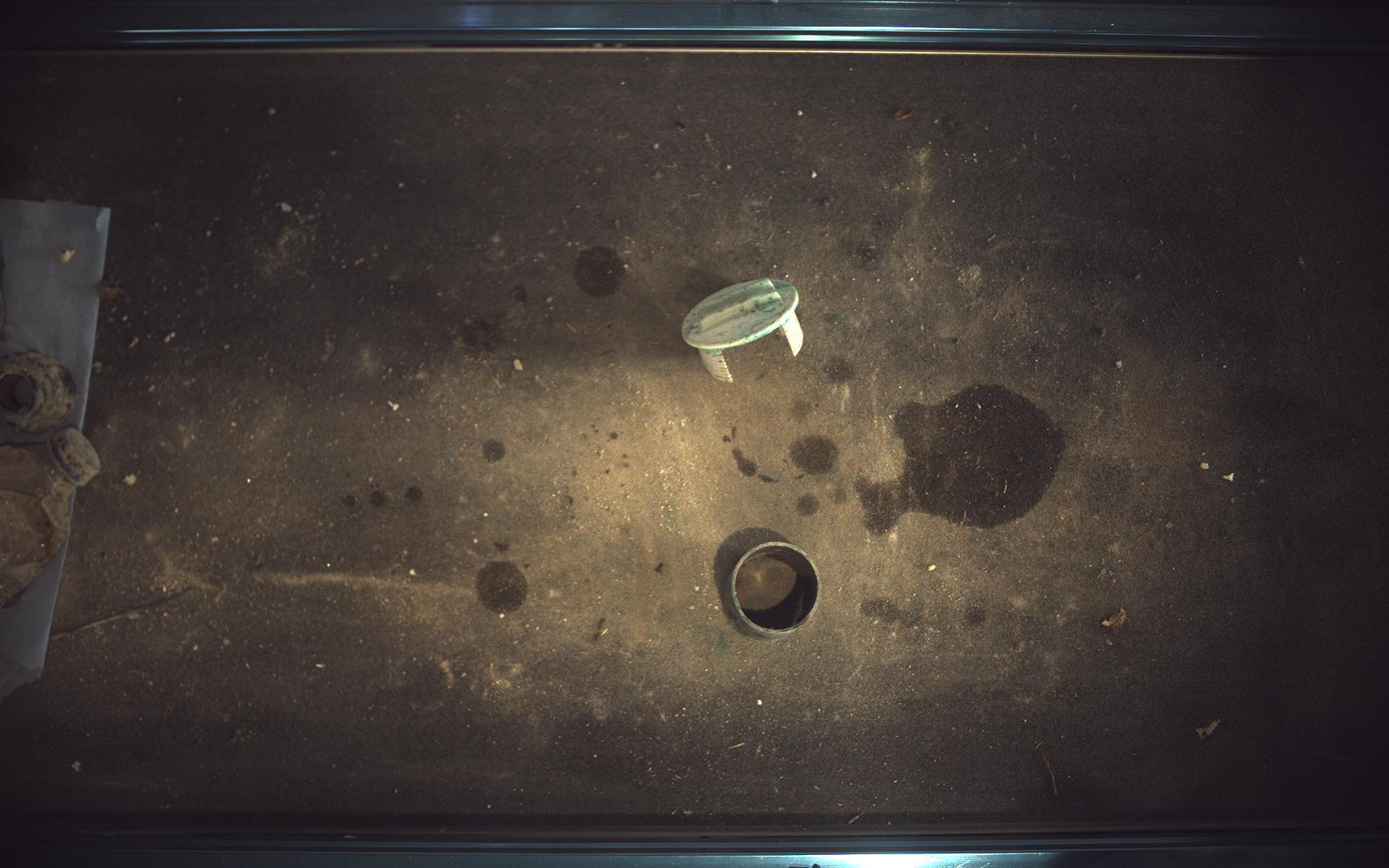pipes: (716, 529, 822, 639)
plastic: (683, 278, 804, 383)
